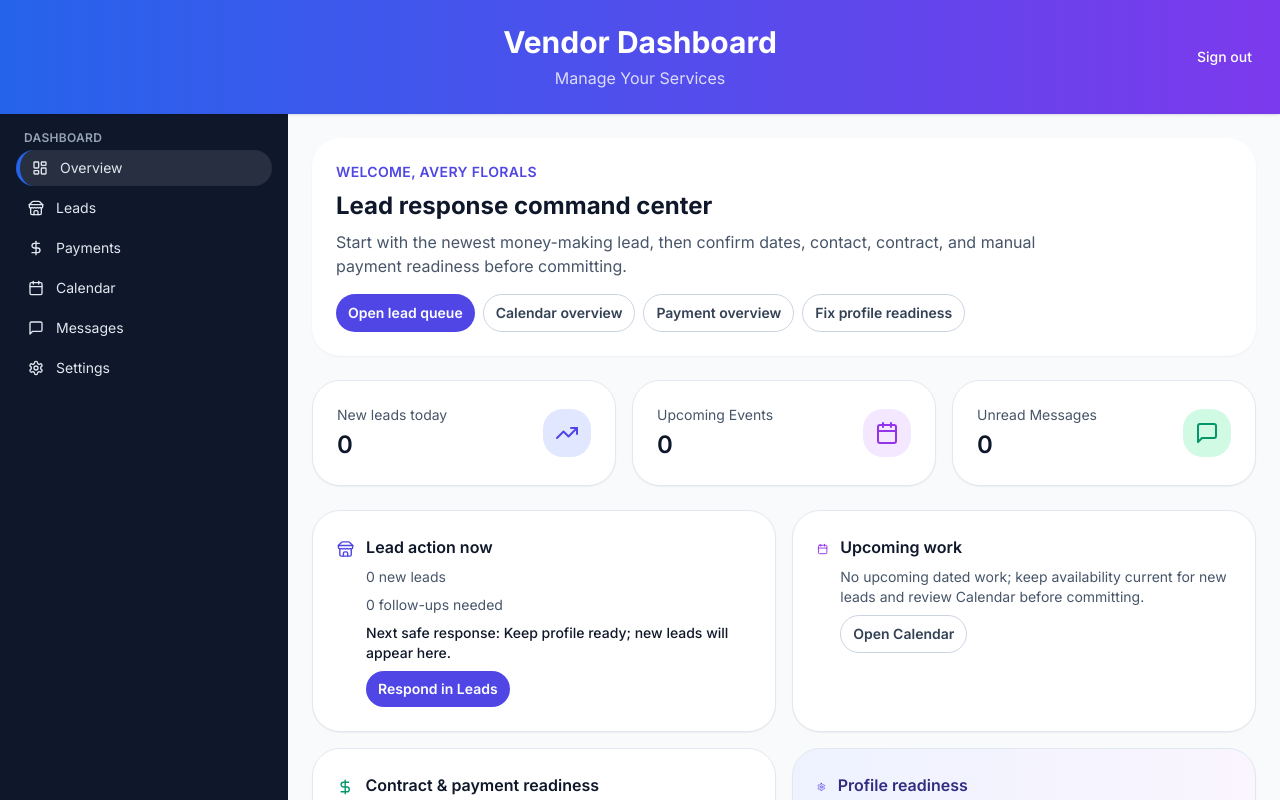
Test: VendorDashboard lead response workflow › routes first-screen actions into useful vendor surfaces instead of coming-soon placeholders
The width and height of the screenshot is (1280, 800).
Click the button "Respond in Leads" at point(438, 688), box [366,670,510,706]
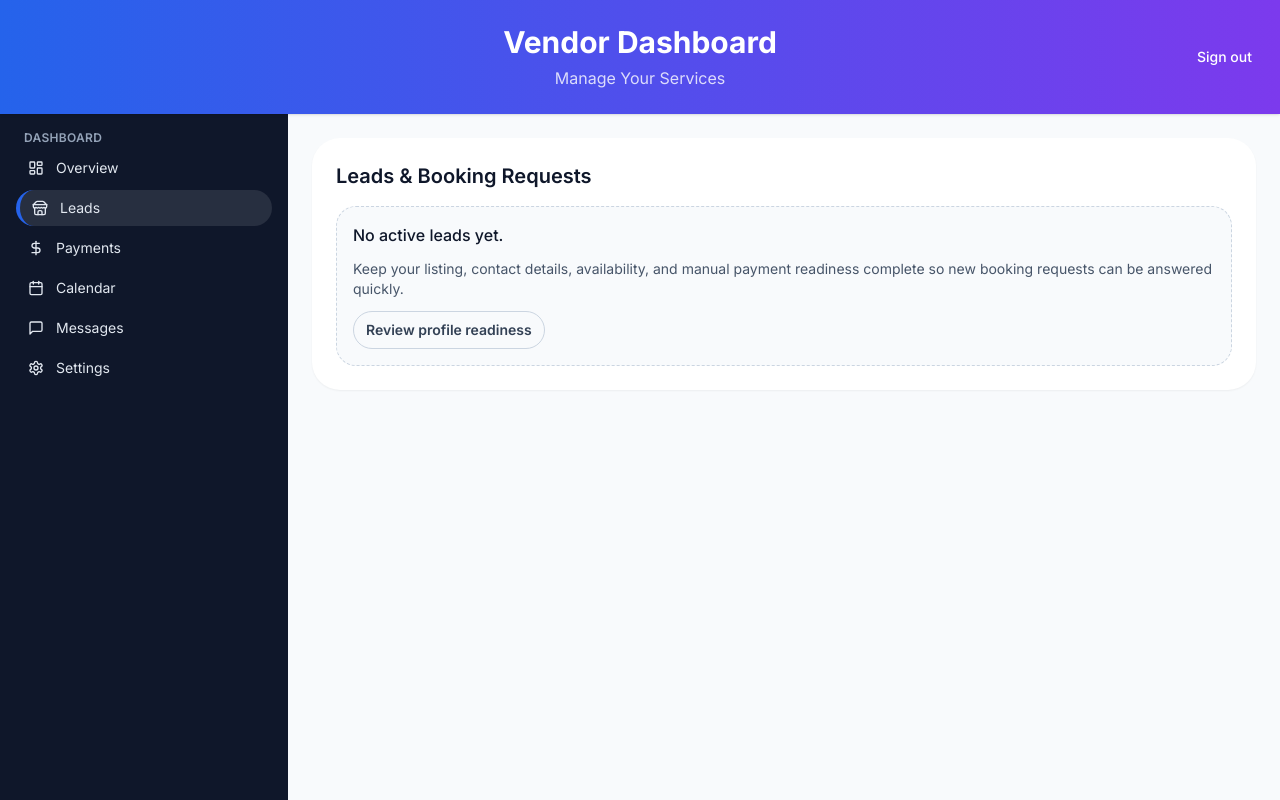
Check: the heading "Leads & Booking Requests" is shown, box [336,164,592,188]
Check: the text "No active leads yet." is shown, box [353,224,503,244]
Click the button "Calendar" at point(144, 288), box [16,270,272,306]
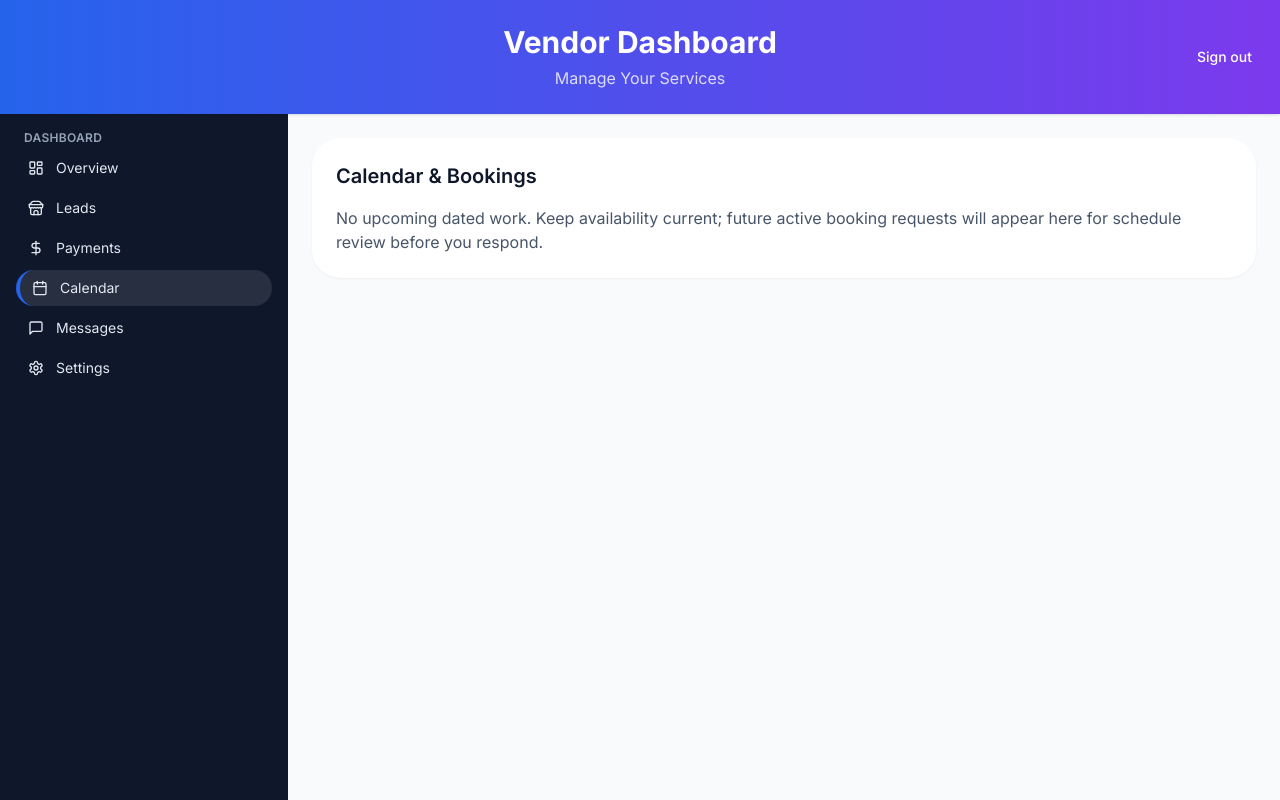
Check: the heading "Calendar & Bookings" is shown, box [336,164,537,188]
Check: the text "No upcoming dated work" is shown, box [336,208,1181,252]
Click the button "Messages" at point(144, 328), box [16,310,272,346]
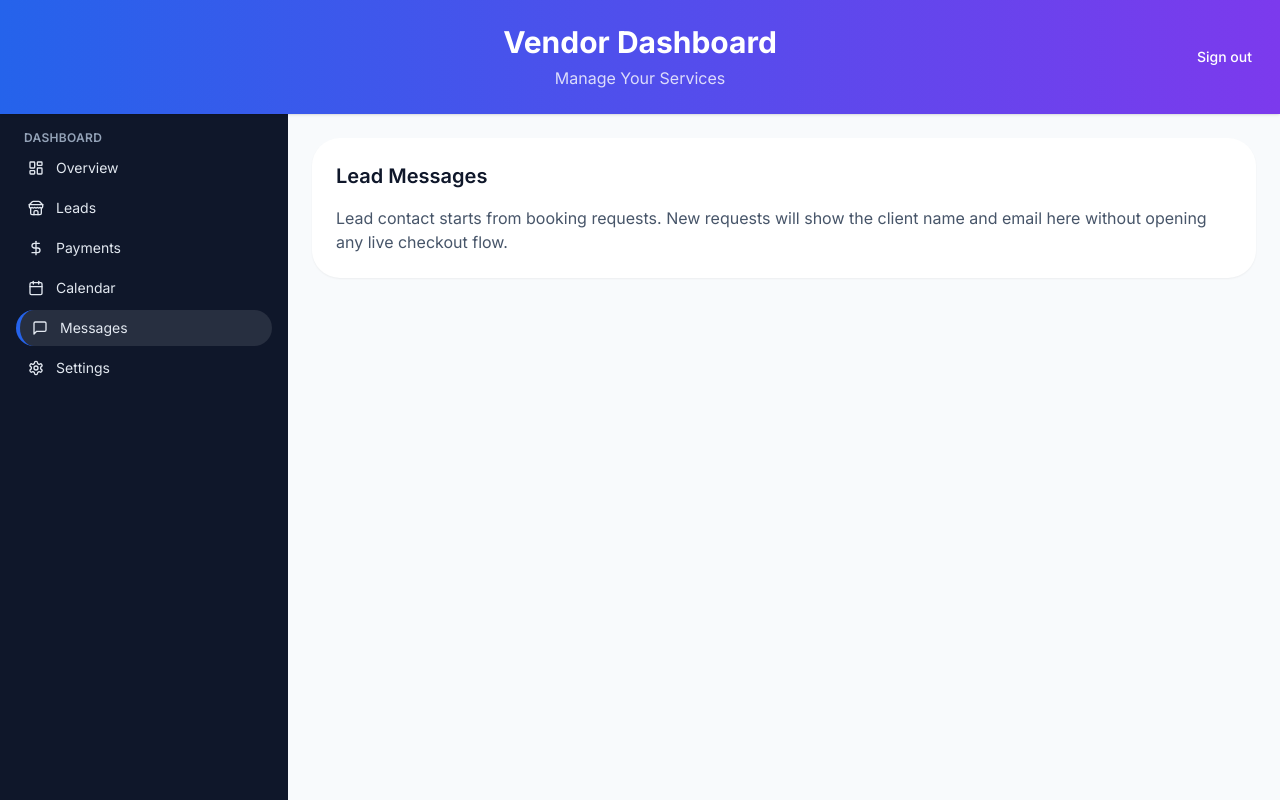
Check: the heading "Lead Messages" is shown, box [336,164,487,188]
Check: the text "Lead contact starts from booking requests" is shown, box [336,208,1207,252]
Click the button "Settings" at point(144, 368), box [16,350,272,386]
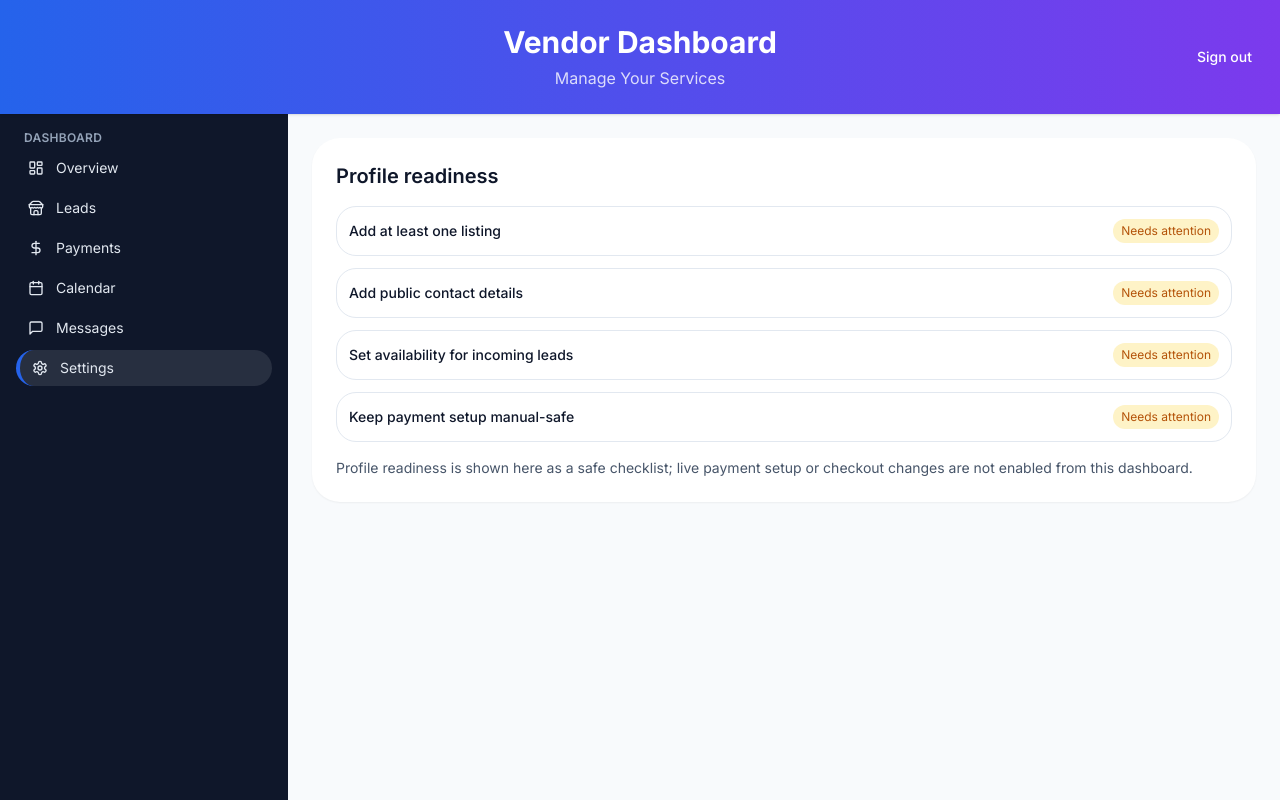
Check: the heading "Profile readiness" is shown, box [336,164,499,188]
Check: the text "Add at least one listing" is shown, box [349,220,501,240]
